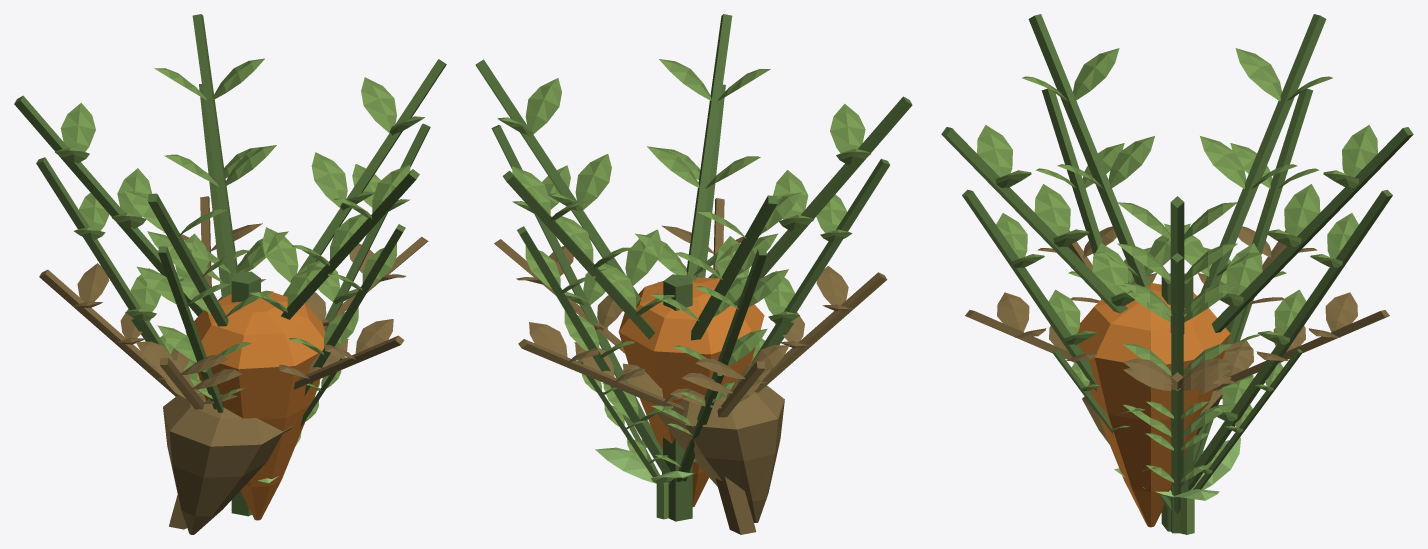
File: spring_carrot.glb
3 views of the same model, side by side, from view 1: azimuth 30°, elevation 25°; view 2: azimuth 150°, elevation 25°; view 3: azimuth 270°, elevation 25° (orthographic). The views are drawn at different scales.
Parts seen in each view (by area): view 1: stage3, dead, stage2, stage1; view 2: stage3, dead, stage2, stage1, stage0; view 3: stage3, stage2, dead, stage1, stage0.
Part boxes in pixels (x1,y1,x2,y2): stage3: (14, 14, 446, 520); dead: (39, 196, 428, 534); stage2: (36, 84, 430, 409); stage1: (131, 317, 348, 427); stage3: (475, 14, 912, 521); dead: (494, 198, 887, 534); stage2: (491, 84, 889, 484); stage1: (574, 321, 793, 485); stage0: (595, 447, 694, 519); stage3: (941, 14, 1413, 531); stage2: (962, 88, 1392, 531); dead: (965, 226, 1389, 444); stage1: (1052, 298, 1302, 533); stage0: (1114, 437, 1240, 534).
Bounding box in the file's own units: 0.5933 × 0.6257 × 0.623.
